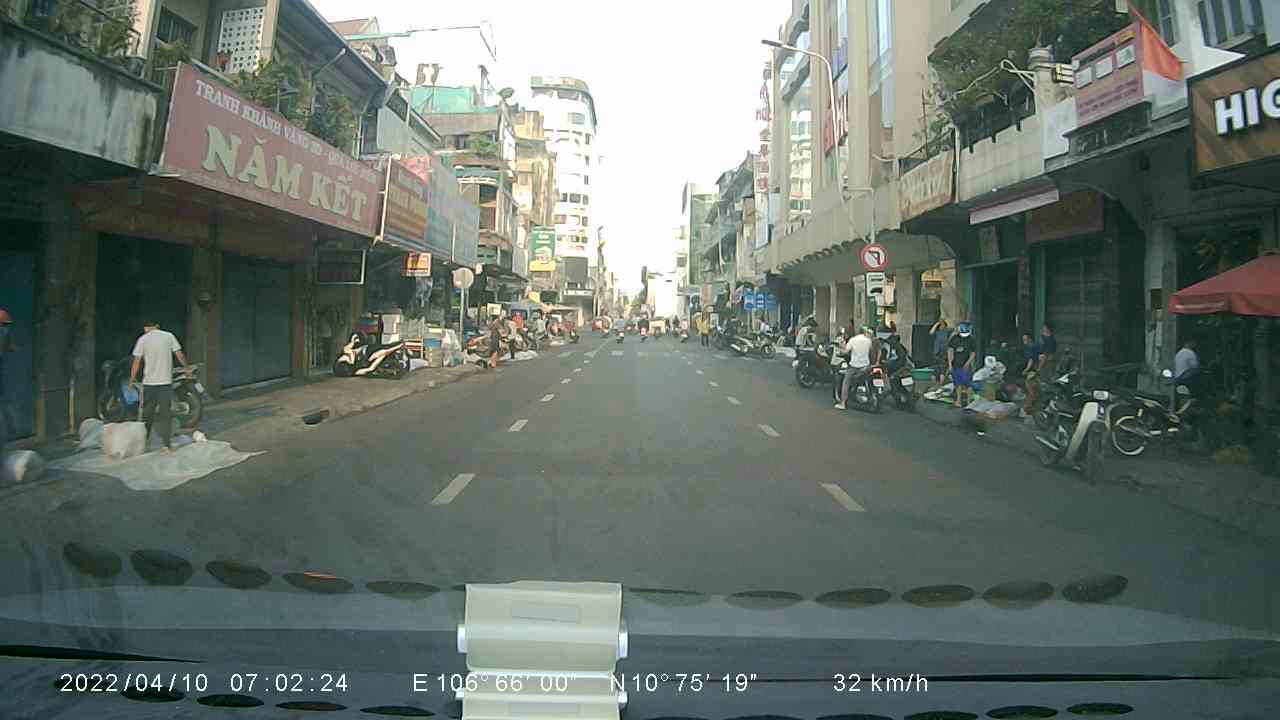Bien khac: (858, 240, 892, 272)
